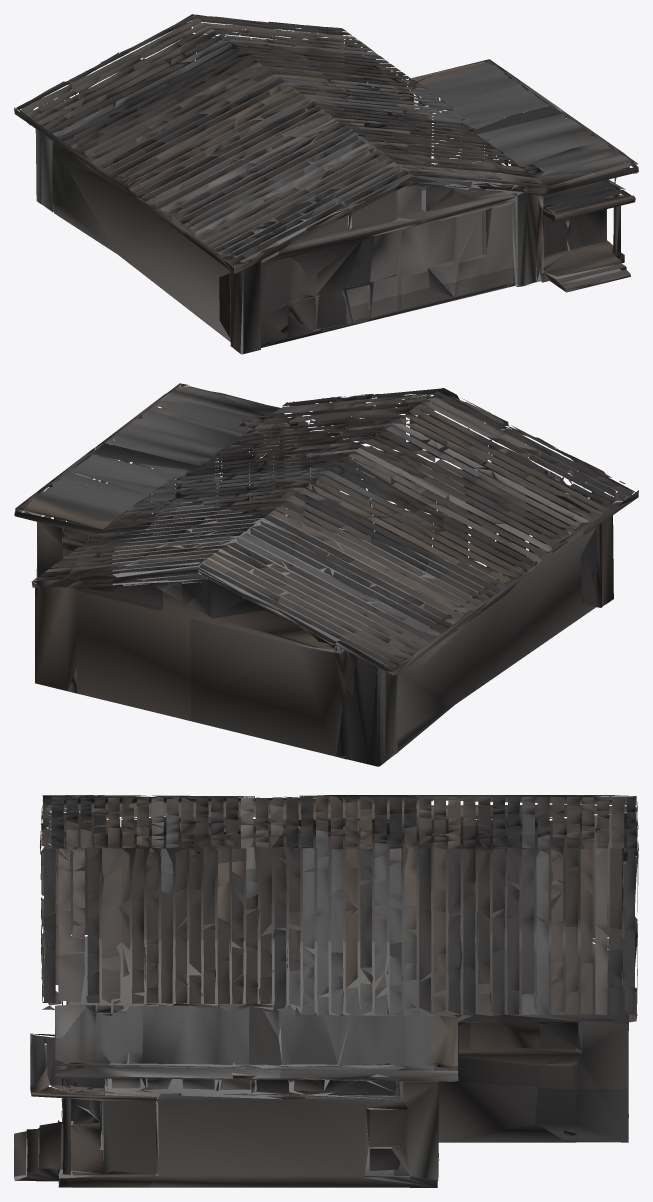
File: hangarhome2.glb
The picture shows the model from 3 angles, top to bottom: view 1: azimuth 30°, elevation 25°; view 2: azimuth 150°, elevation 25°; view 3: azimuth 270°, elevation 25°; orthographic projection. The views are drawn at different scales.
Visible parts, largest first — view 1: LO.001; view 2: LO.001; view 3: LO.001.
Part boxes in pixels (box(x1,y1,x2,y2)): LO.001: box(14, 14, 638, 354); LO.001: box(14, 383, 638, 766); LO.001: box(14, 795, 638, 1187).
Bounding box in the file's own units: 30.9 × 10.5 × 30.
Materials: 1 (1 with a texture image).
